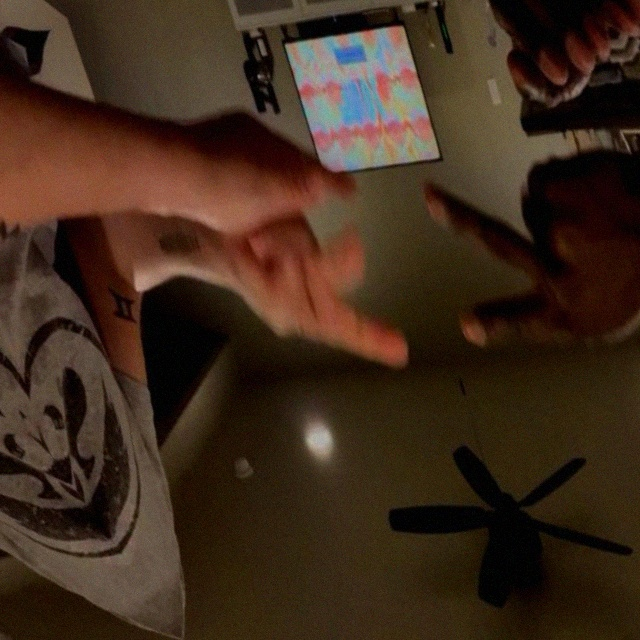Scissors: (362, 62, 640, 449), (175, 157, 458, 446)
